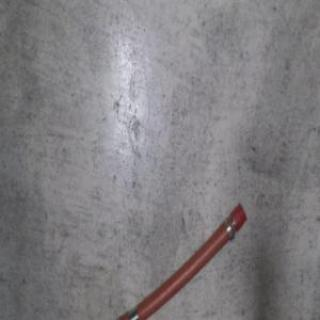Hosetrack_idkeyframe: (103, 198, 246, 319)
